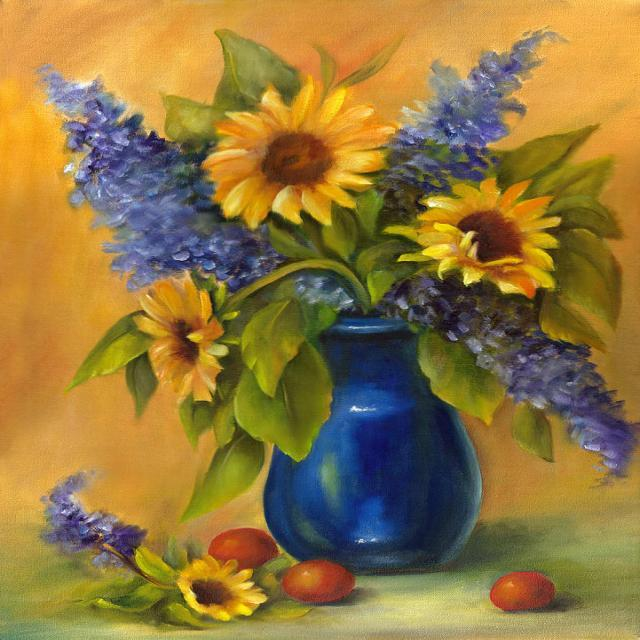sunflower: (200, 75, 397, 229), (417, 175, 562, 298), (132, 279, 229, 403), (174, 553, 267, 622)
